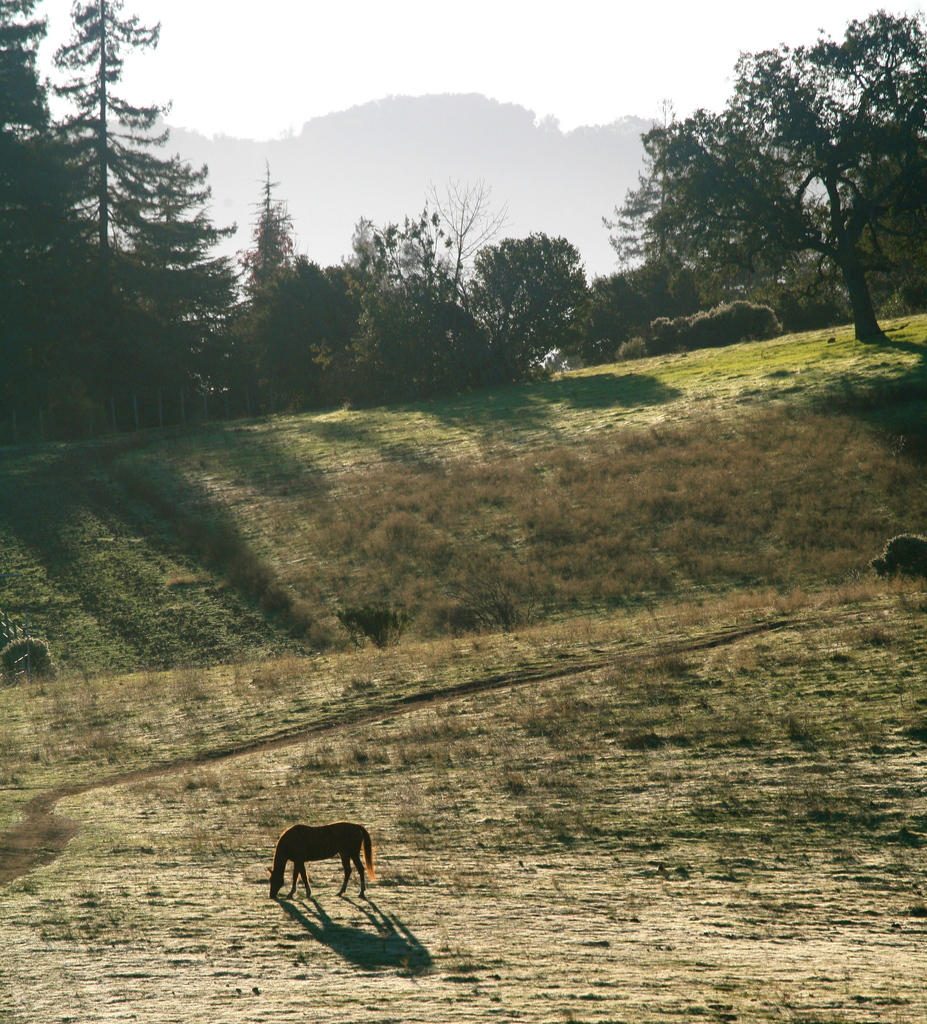horse: (267, 821, 377, 898)
